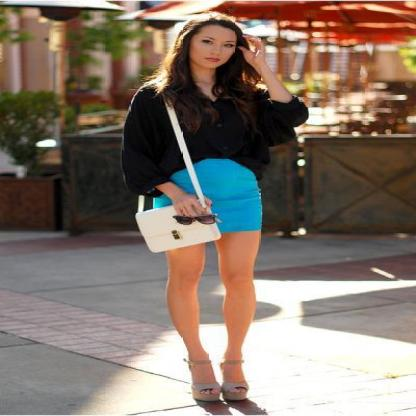bag: (138, 108, 219, 252)
shirt: (123, 91, 308, 200)
shoe: (187, 354, 253, 415)
skirt: (138, 159, 261, 232)
